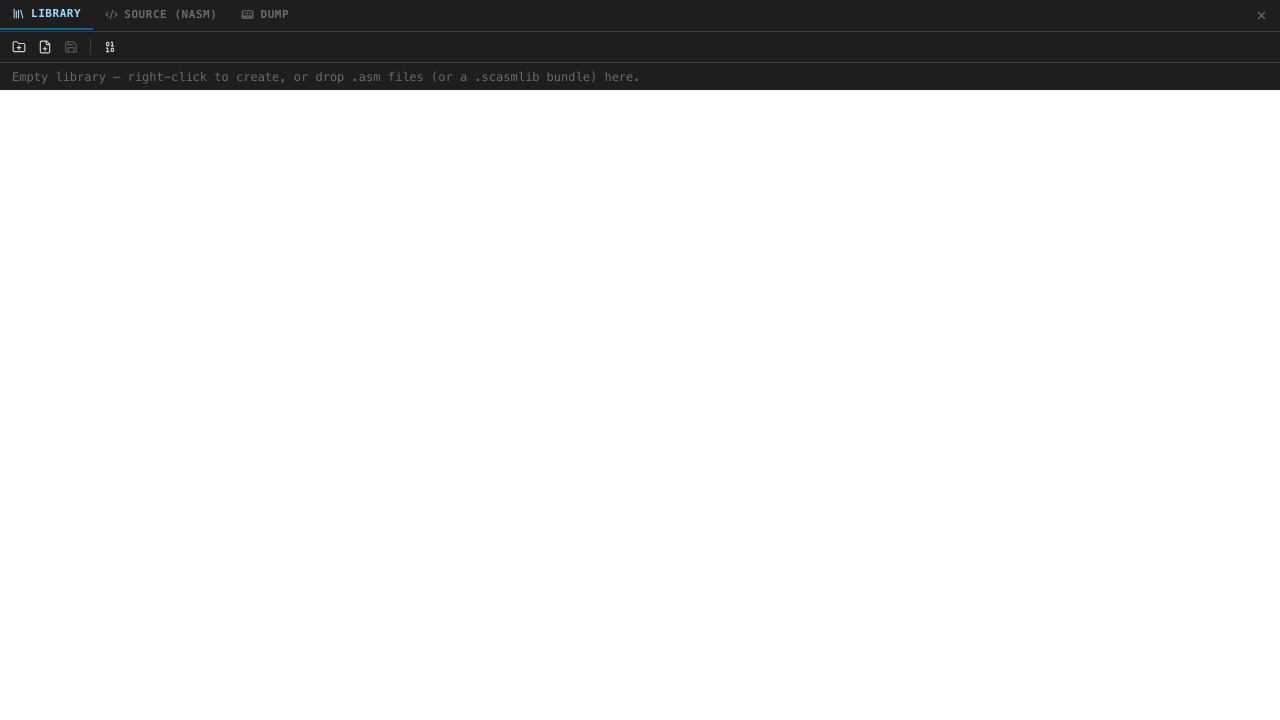
ha uma aba de dump ao lado do codigo-fonte
Click the button "Dump" at (265, 15), box [230,0,301,30]
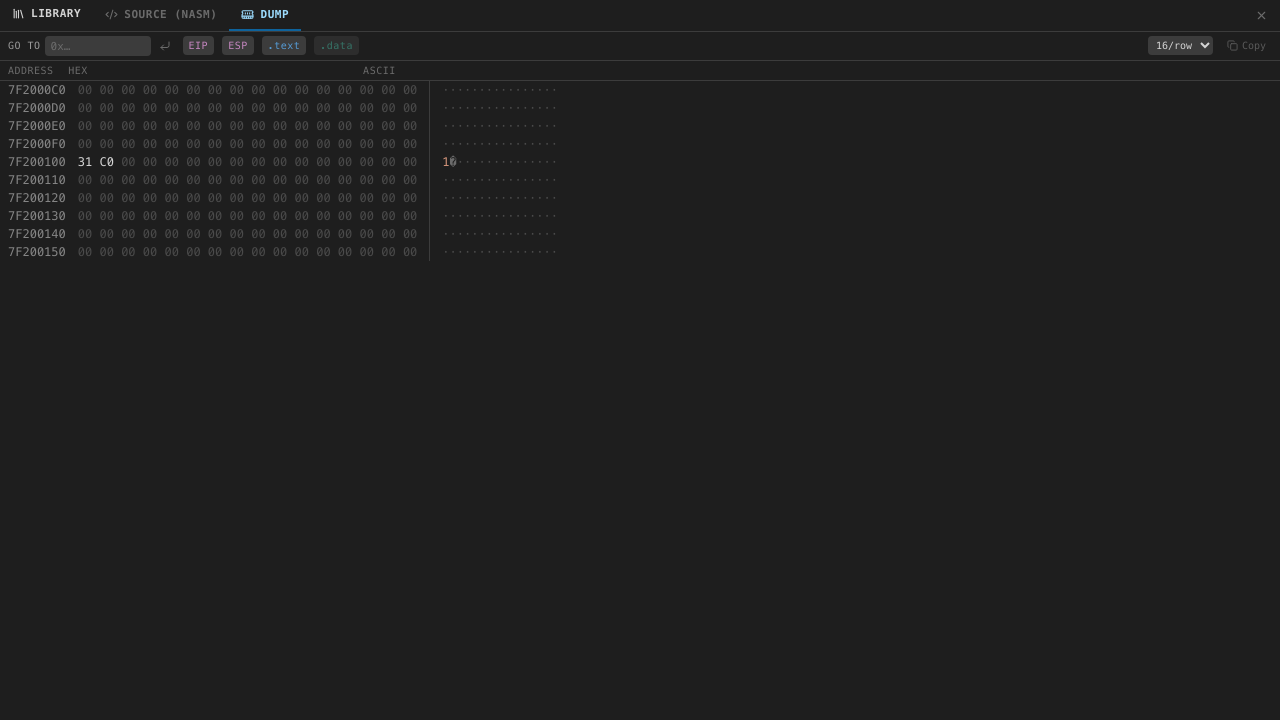
Now the text "7F200100" is shown, box [8,153,66,171]
